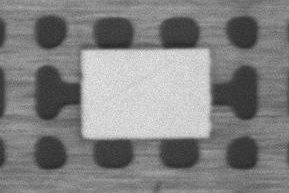DIE_CRACK: (157, 40, 261, 67)
